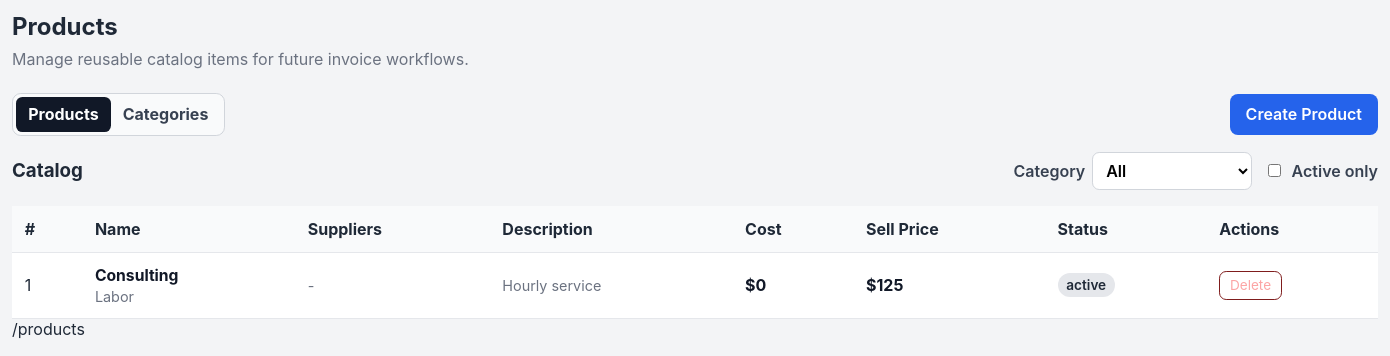
Test: ProductsPage › navigates to product detail when a product row is clicked
The image size is (1390, 356).
Click the row named "View Consulting".
click(695, 285)  # box [12, 252, 1378, 318]
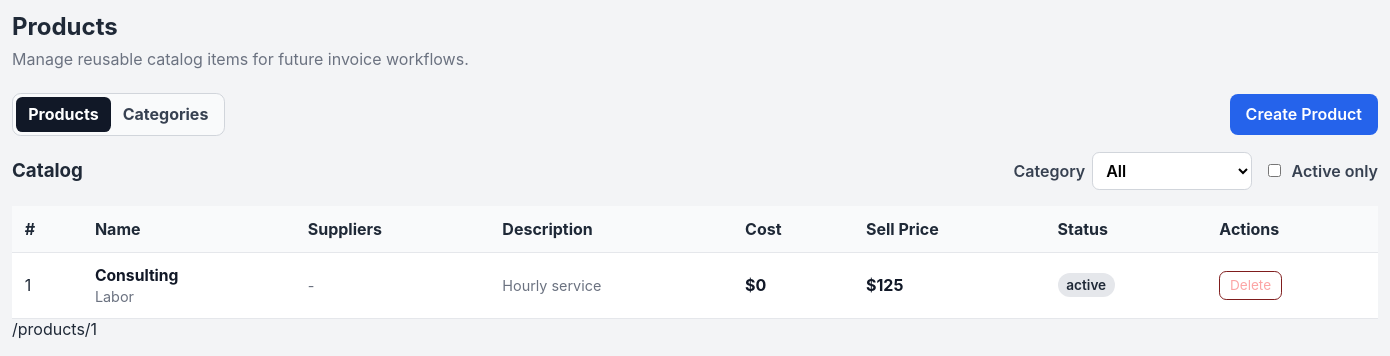
Expected: the text with test id "location-path" reads "/products/1", [12, 318, 97, 338]
